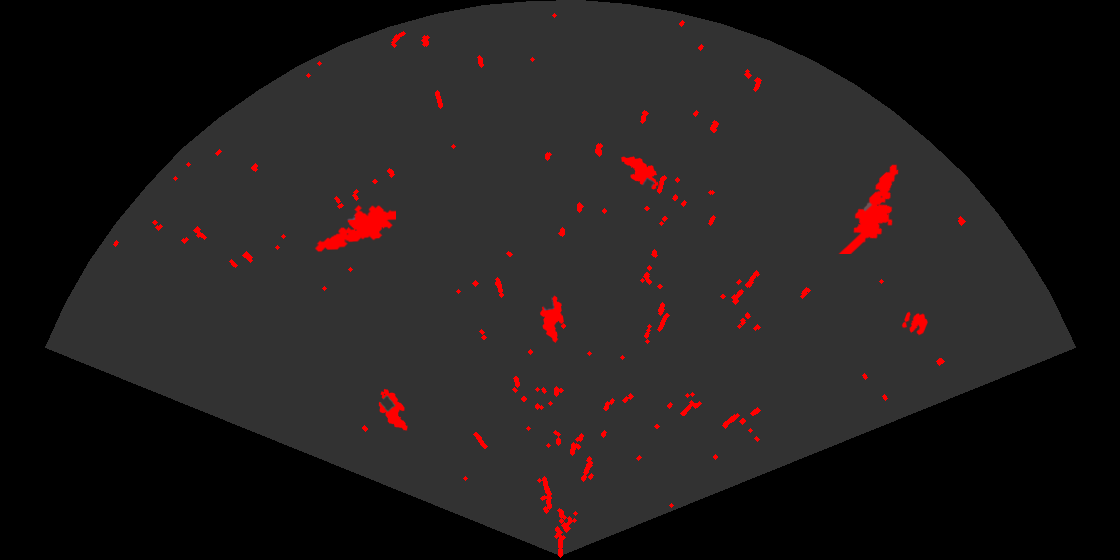AUV: (377, 387, 409, 432), (620, 155, 660, 191), (538, 294, 565, 344)
ball: (900, 310, 930, 337)
frogman: (837, 163, 900, 254), (313, 203, 396, 254)
